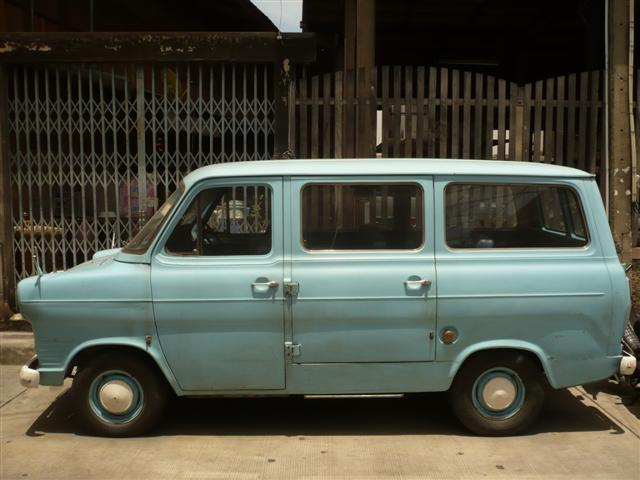van: (16, 155, 637, 436)
